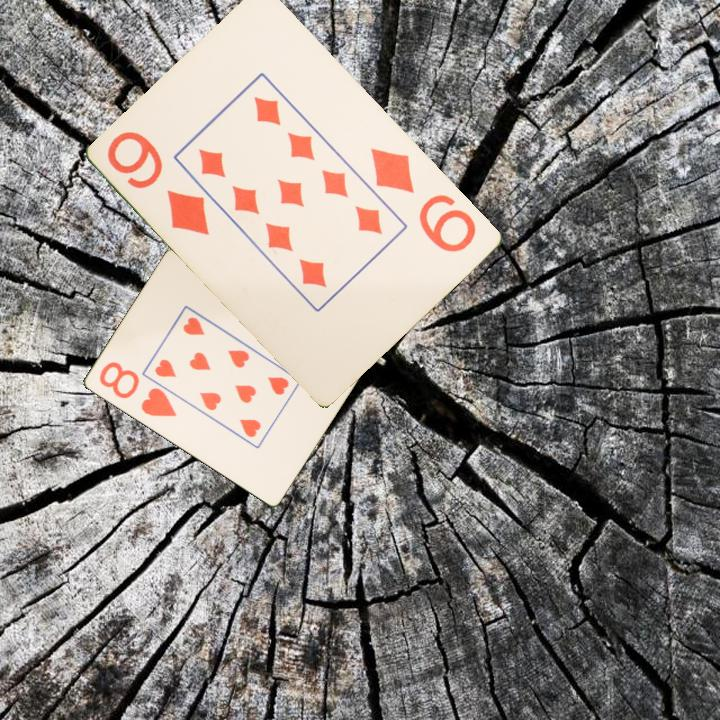8h: (95, 358, 179, 420)
9d: (367, 144, 480, 256), (103, 127, 213, 239)
